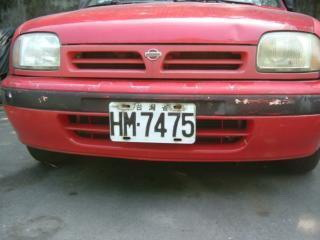plate: (105, 99, 197, 146)
